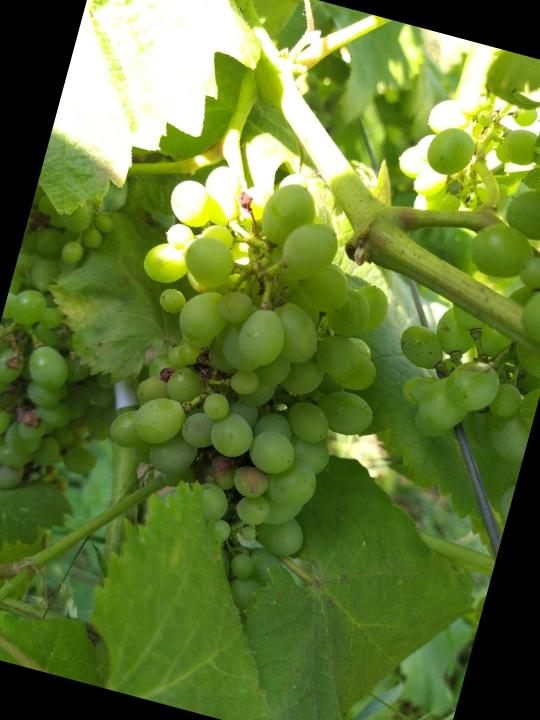grape: (60, 142, 428, 633)
